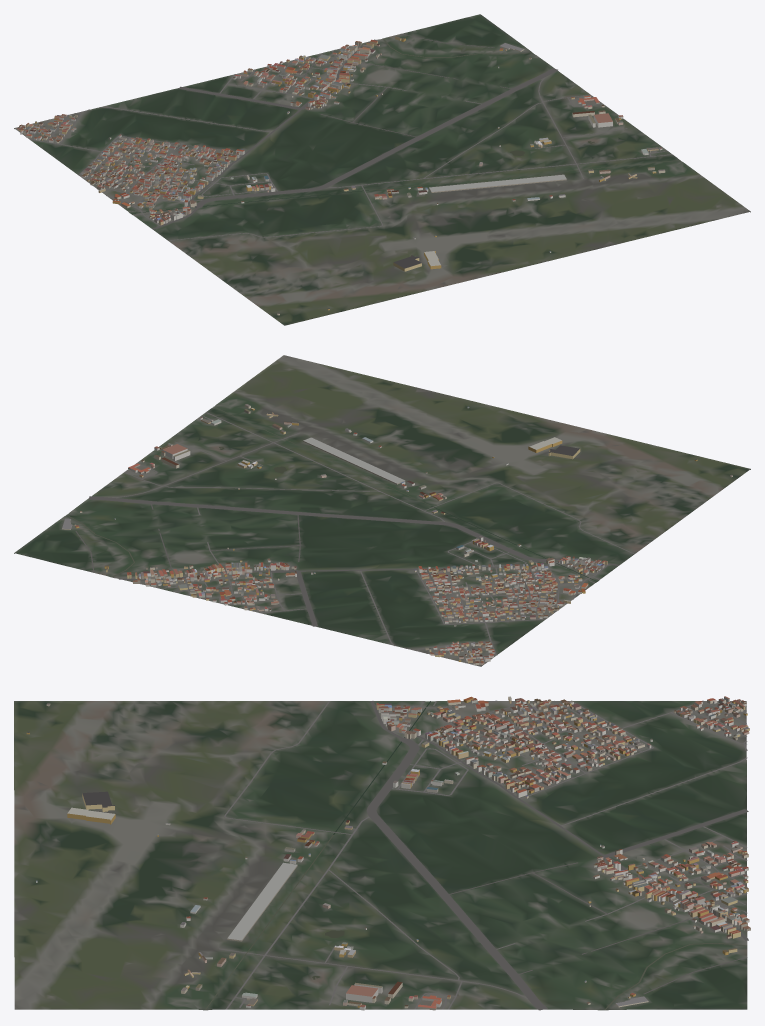
3 renders of one model, top to bottom at view 1: azimuth 30°, elevation 25°; view 2: azimuth 150°, elevation 25°; view 3: azimuth 270°, elevation 25°, orthographic. The views are drawn at different scales.
Parts seen in each view (by area): view 1: ground, buildings, roads, water; view 2: ground, buildings, roads, water; view 3: ground, buildings, roads, water.
Part boxes in pixels (x1,y1,x2,y2): ground: (14,14,750,325); buildings: (17,36,665,315); roads: (18,34,672,240); water: (131,38,679,213); ground: (14,355,750,666); buildings: (62,404,732,665); roads: (75,412,634,663); water: (66,406,597,581); ground: (14,701,747,1010); buildings: (26,696,750,1010); roads: (219,700,748,1010); water: (205,701,747,1009).
Bounding box in the file's own units: 1411 × 19.55 × 1410.
